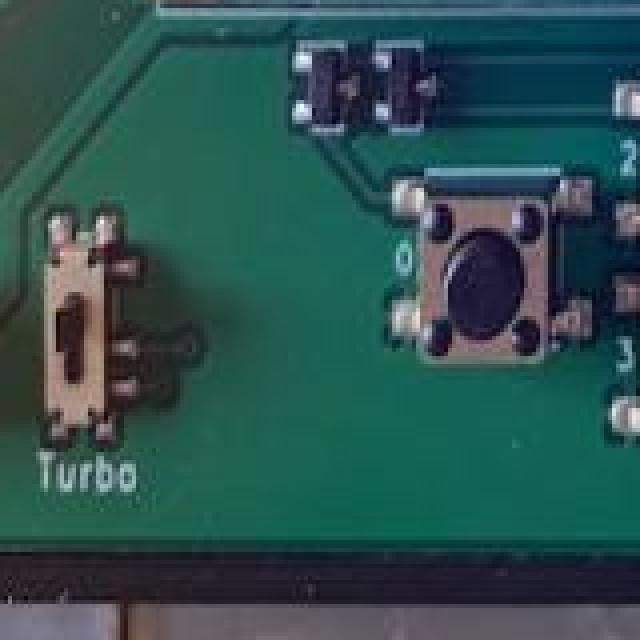switch: (400, 180, 574, 386), (32, 220, 142, 472), (608, 288, 640, 476), (616, 72, 640, 296)
transistor: (292, 44, 354, 140), (376, 40, 440, 128)
